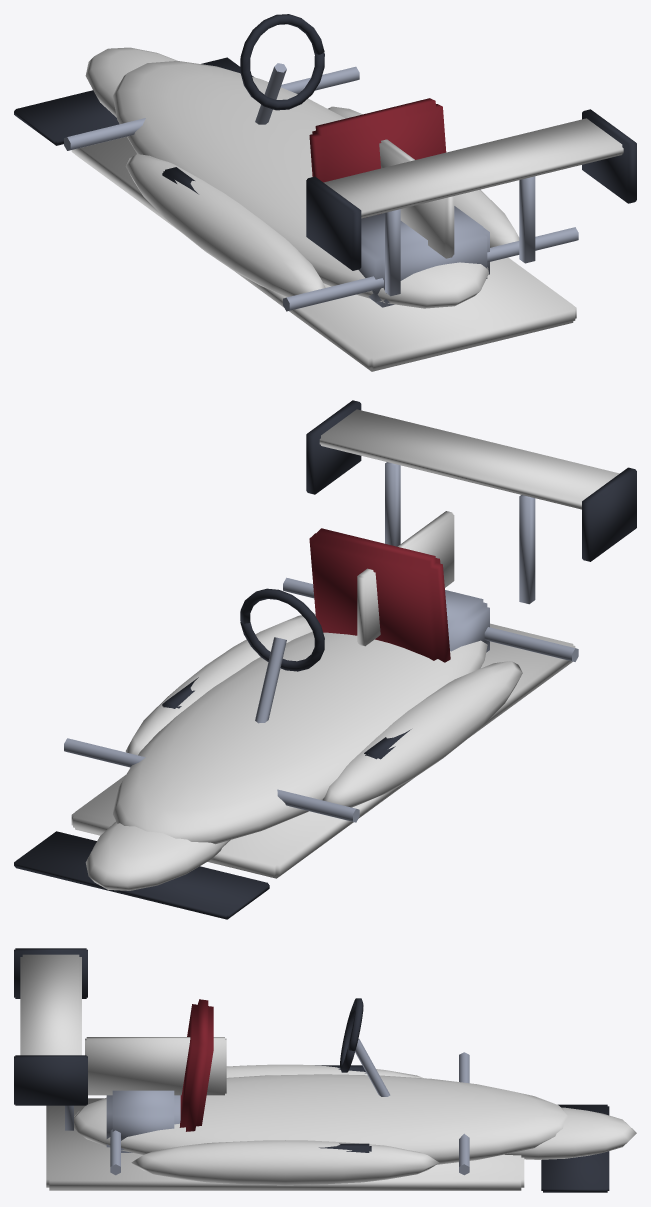
The model's file is part_overdrive.glb.
The picture shows the model from 3 angles, top to bottom: view 1: azimuth 30°, elevation 25°; view 2: azimuth 150°, elevation 25°; view 3: azimuth 270°, elevation 25°; orthographic projection. The views are drawn at different scales.
Visible parts, largest first — view 1: part_overdrive; view 2: part_overdrive; view 3: part_overdrive.
Boxes of the visible parts, left/top/right/bottom form: part_overdrive: left=14, top=14, right=636, bottom=371; part_overdrive: left=14, top=400, right=636, bottom=919; part_overdrive: left=14, top=948, right=636, bottom=1192.
Size of the model in its own units: 0.86 by 0.5363 by 2.02.
